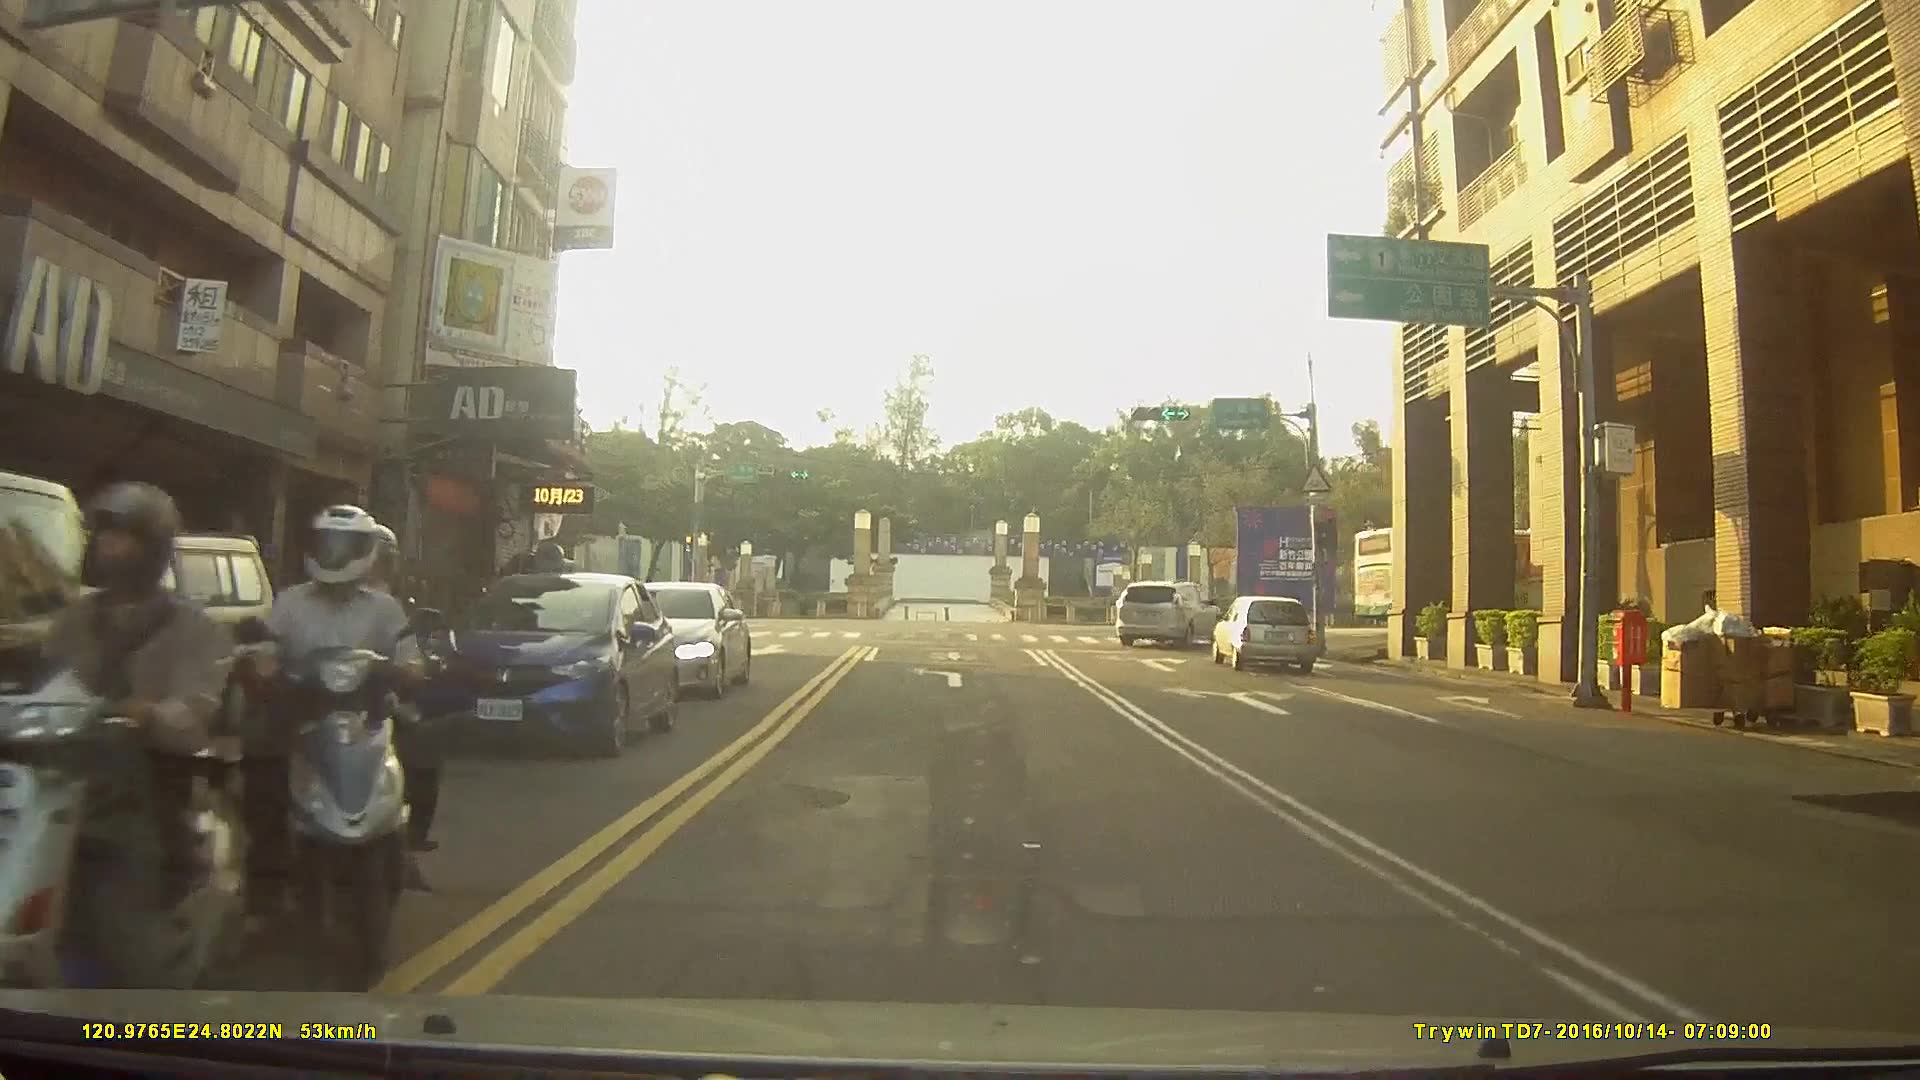rider: (1, 482, 249, 1021), (230, 506, 450, 997)
vehicle: (414, 573, 676, 762), (1351, 527, 1653, 625), (582, 582, 747, 701), (1210, 593, 1315, 670), (1117, 580, 1224, 647)
